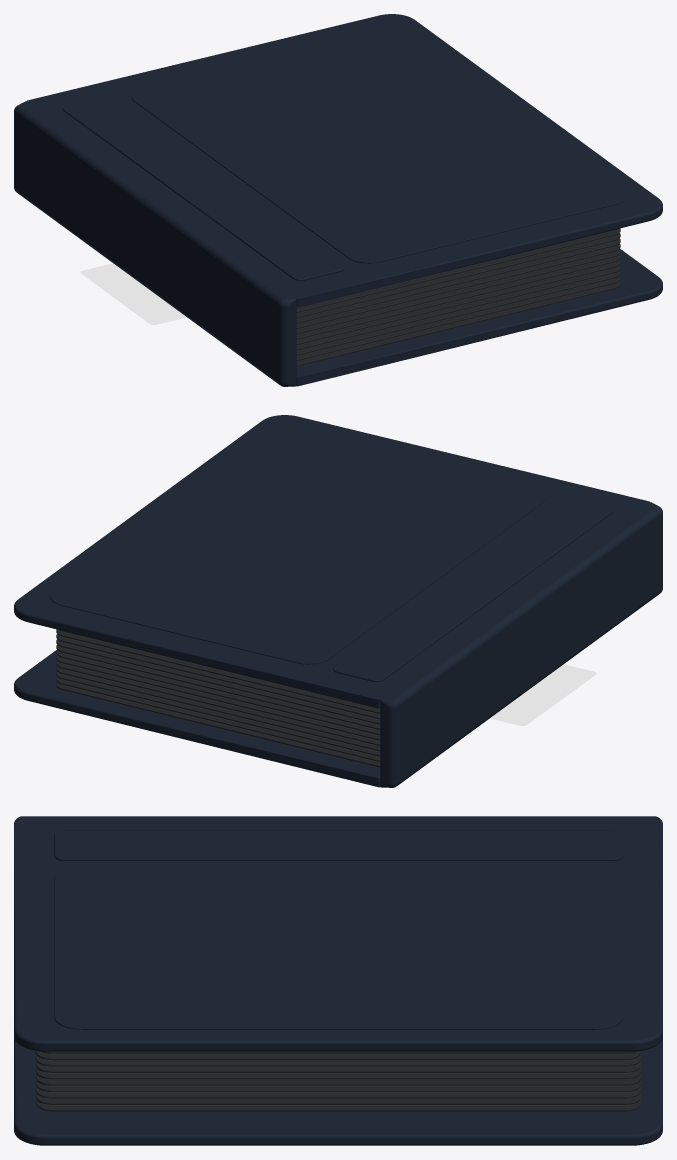
Rendered from album-13h.glb.
3 views of the same model, one above another, from view 1: azimuth 30°, elevation 25°; view 2: azimuth 150°, elevation 25°; view 3: azimuth 270°, elevation 25° (orthographic). The views are drawn at different scales.
Parts seen in each view (by area): view 1: Tapa_Panel, Lomo, Tapa_Malla, Tapa_Banda, Contratapa, Plantilla_Carta_F, Hoja_3_Losa, Hoja_6_Losa, Hoja_7_Losa, Hoja_8_Losa, Hoja_4_Losa, Hoja_5_Losa (+5 smaller); view 2: Tapa_Panel, Lomo, Tapa_Malla, Tapa_Banda, Contratapa, Plantilla_Carta_F, Hoja_3_Losa, Hoja_6_Losa, Hoja_7_Losa, Hoja_8_Losa, Hoja_4_Losa, Hoja_5_Losa (+5 smaller); view 3: Tapa_Panel, Tapa_Malla, Contratapa, Tapa_Banda, Hoja_4_Losa, Lomo, Hoja_12_Losa, Hoja_7_Losa, Hoja_8_Losa, Hoja_10_Losa, Hoja_11_Losa, Hoja_5_Losa (+3 smaller).
Part boxes in pixels (<box>): Tapa_Panel: <box>131,29,626,263</box>; Lomo: <box>14,101,296,386</box>; Tapa_Malla: <box>27,14,662,307</box>; Tapa_Banda: <box>63,96,343,280</box>; Contratapa: <box>296,249,662,386</box>; Plantilla_Carta_F: <box>80,263,186,324</box>; Hoja_3_Losa: <box>296,233,620,318</box>; Hoja_6_Losa: <box>296,249,620,334</box>; Hoja_7_Losa: <box>296,254,620,339</box>; Hoja_8_Losa: <box>296,260,620,344</box>; Hoja_4_Losa: <box>296,238,620,323</box>; Hoja_5_Losa: <box>296,244,620,328</box>; Tapa_Panel: <box>50,430,545,664</box>; Lomo: <box>380,502,662,787</box>; Tapa_Malla: <box>14,415,649,708</box>; Tapa_Banda: <box>333,497,613,681</box>; Contratapa: <box>14,650,380,787</box>; Plantilla_Carta_F: <box>490,664,596,725</box>; Hoja_3_Losa: <box>56,634,380,719</box>; Hoja_6_Losa: <box>56,650,380,735</box>; Hoja_7_Losa: <box>56,655,380,740</box>; Hoja_8_Losa: <box>56,661,380,745</box>; Hoja_4_Losa: <box>56,639,380,724</box>; Hoja_5_Losa: <box>56,645,380,729</box>; Tapa_Panel: <box>54,867,622,1029</box>; Tapa_Malla: <box>14,822,662,1051</box>; Contratapa: <box>14,1037,662,1145</box>; Tapa_Banda: <box>54,830,622,860</box>; Hoja_4_Losa: <box>36,1051,640,1060</box>; Lomo: <box>14,816,662,822</box>; Hoja_12_Losa: <box>36,1099,640,1111</box>; Hoja_7_Losa: <box>36,1067,640,1079</box>; Hoja_8_Losa: <box>36,1073,640,1085</box>; Hoja_10_Losa: <box>36,1086,640,1098</box>; Hoja_11_Losa: <box>36,1093,640,1104</box>; Hoja_5_Losa: <box>36,1054,640,1066</box>.
Bounding box in the file's own units: 0.2895 × 0.0587 × 0.322.
